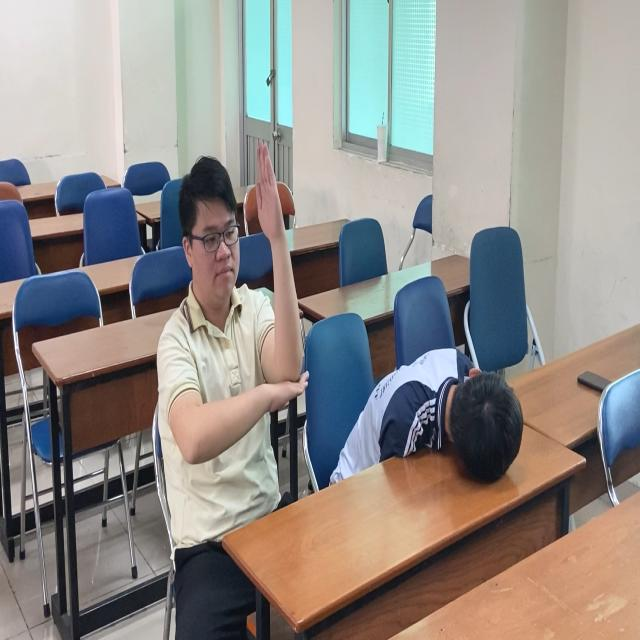raise_hand: (148, 135, 303, 545)
sleep: (330, 322, 539, 496)
